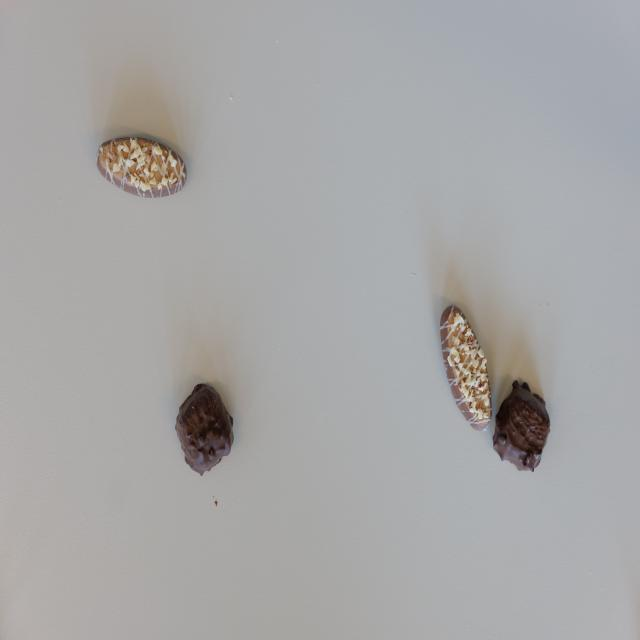Amandina: (439, 304, 489, 430), (96, 136, 188, 198)
Tentation_noir: (174, 384, 233, 476), (493, 379, 551, 472)
